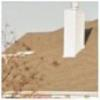chimneys: (64, 1, 86, 57)
